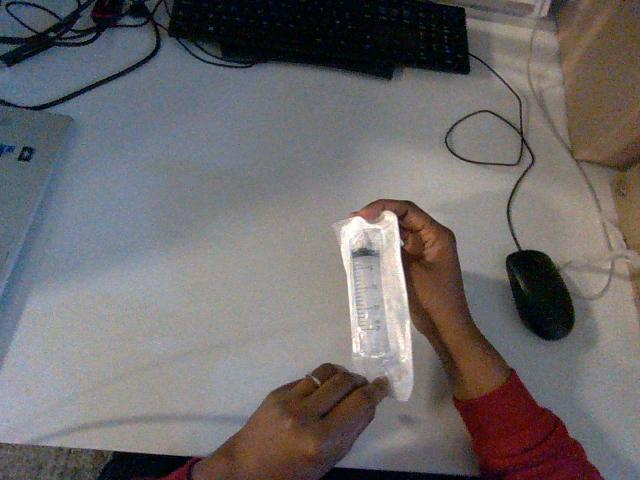syringe: (333, 211, 412, 400)
